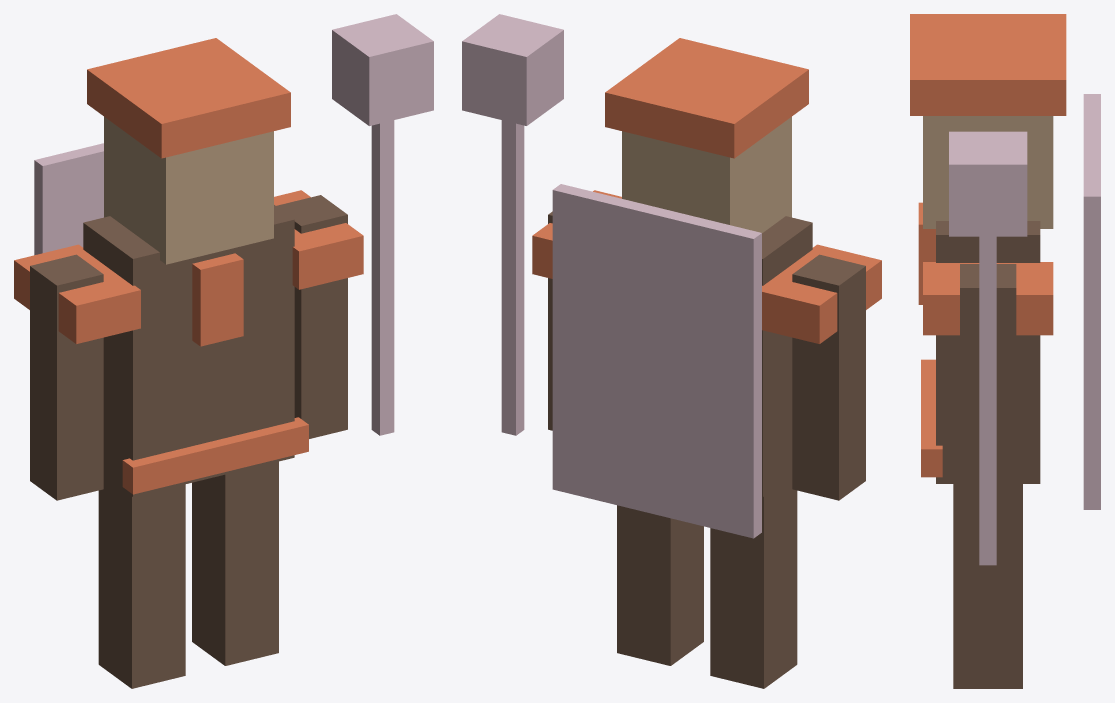
File: 04_orin_skyharrow_keeper_from_meter.glb
3 views of the same model, side by side, from view 1: azimuth 30°, elevation 25°; view 2: azimuth 150°, elevation 25°; view 3: azimuth 270°, elevation 25° (orthographic). The views are drawn at different scales.
Parts seen in each view (by area): view 1: Orin Skyharrow, Keeper from Meter; view 2: Orin Skyharrow, Keeper from Meter; view 3: Orin Skyharrow, Keeper from Meter.
Boxes of the visible parts, x1,y1,x2,y2 form: Orin Skyharrow, Keeper from Meter: [14, 14, 433, 688]; Orin Skyharrow, Keeper from Meter: [462, 14, 881, 688]; Orin Skyharrow, Keeper from Meter: [910, 14, 1100, 688].
Bounding box in the file's own units: 0.9784 × 1.45 × 0.4159.
